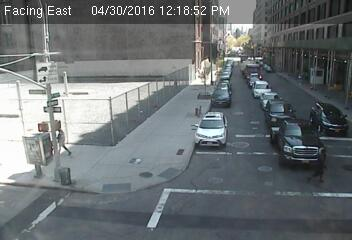neg: (183, 95, 210, 132), (12, 150, 38, 184), (191, 61, 215, 92), (308, 65, 329, 93)
pos: (304, 142, 338, 187), (46, 121, 74, 158)
